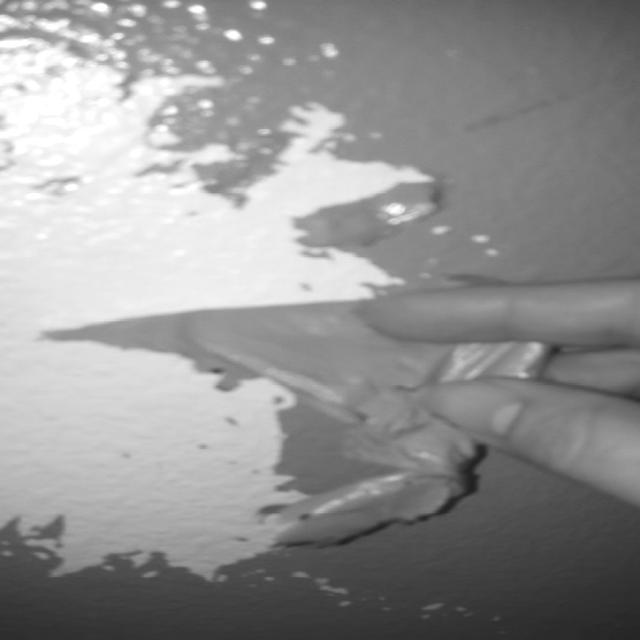peeling paint: (0, 0, 585, 603)
